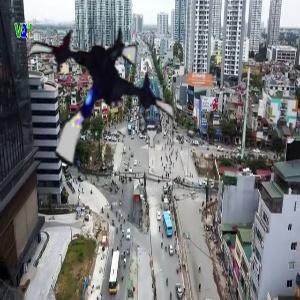drone: (13, 14, 186, 187)
